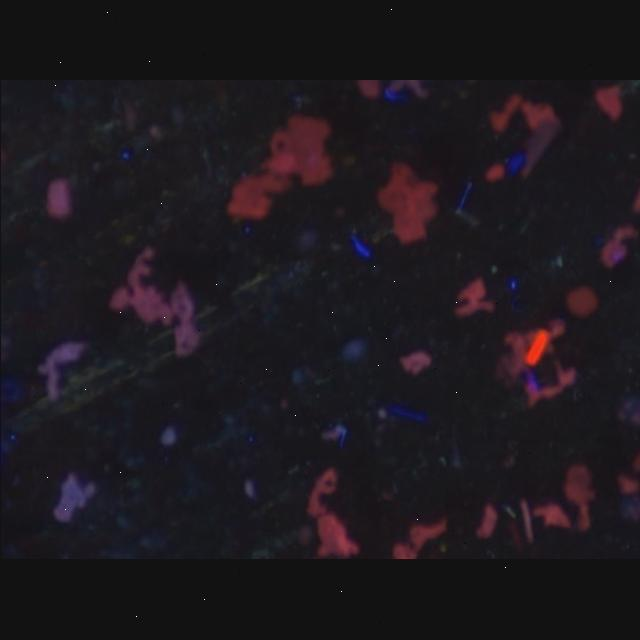Fibre: (52, 473, 96, 522)
Fragment: (377, 162, 437, 244), (306, 471, 356, 559)
